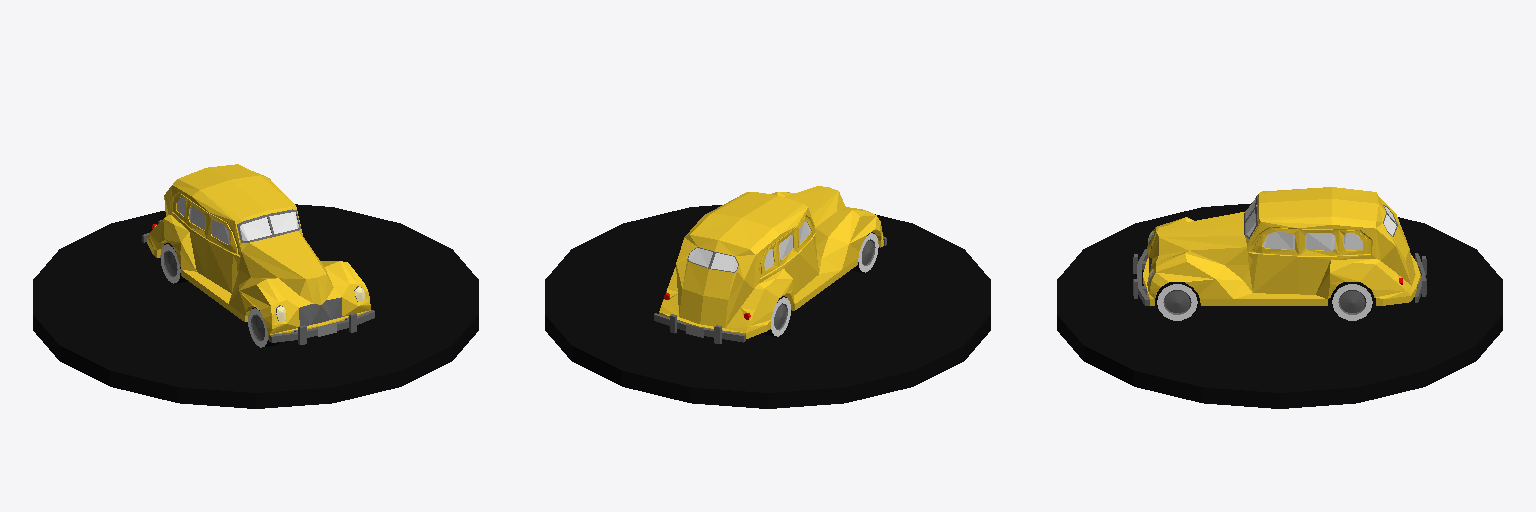
The model's file is desoto.obj.
3 views of the same model, side by side, from view 1: azimuth 30°, elevation 25°; view 2: azimuth 150°, elevation 25°; view 3: azimuth 270°, elevation 25° (orthographic).
Visible parts, largest first — view 1: Cylinder001_Mesh.004, Box001_Mesh.003; view 2: Cylinder001_Mesh.004, Box001_Mesh.003; view 3: Cylinder001_Mesh.004, Box001_Mesh.003.
Part boxes in pixels (x1,y1,x2,y2): Cylinder001_Mesh.004: (33, 204, 478, 408); Box001_Mesh.003: (142, 164, 374, 347); Cylinder001_Mesh.004: (545, 205, 990, 408); Box001_Mesh.003: (654, 186, 886, 343); Cylinder001_Mesh.004: (1057, 203, 1502, 408); Box001_Mesh.003: (1133, 187, 1426, 320).
Bounding box in the file's own units: 3.25 × 0.9058 × 3.2.